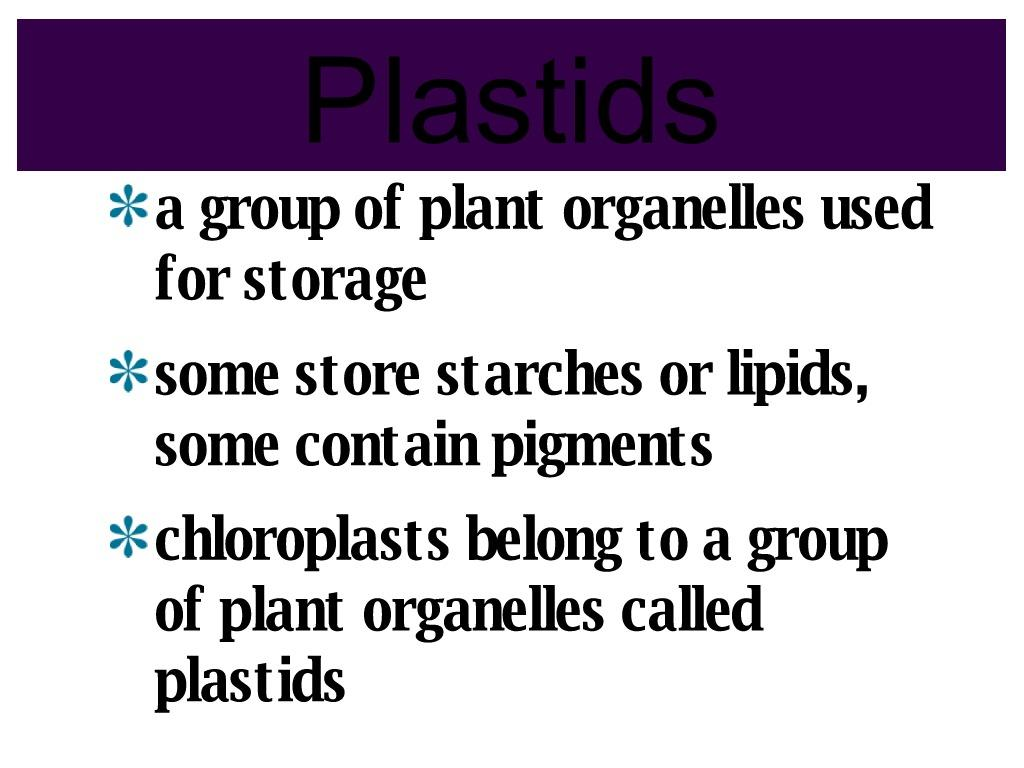paragraph: (110, 175, 953, 726)
title: (298, 44, 740, 153)
